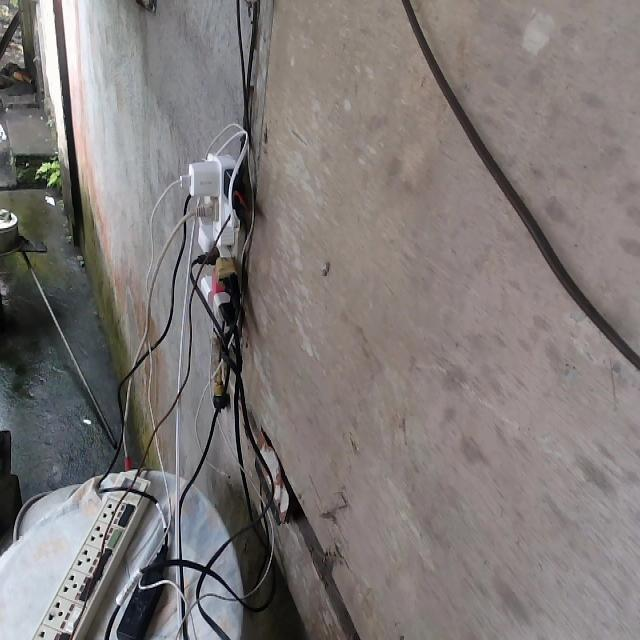-: (175, 148, 248, 329)
